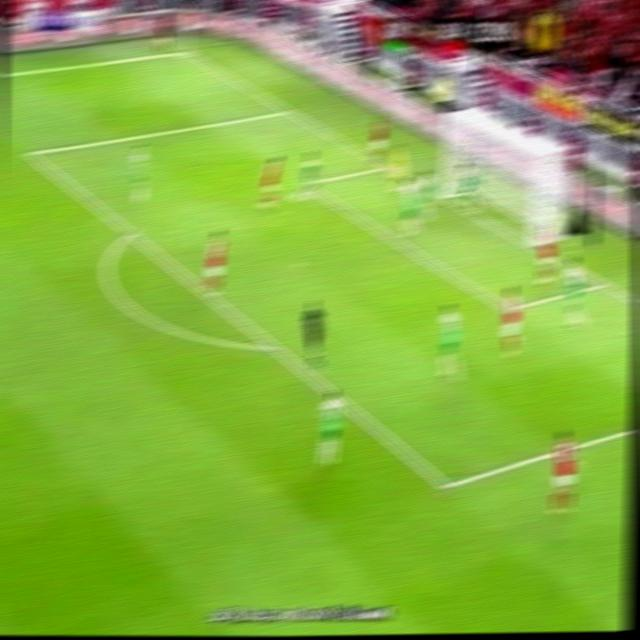bigarea_bottom_inner: (432, 470, 459, 500)
bigarea_top_inner: (22, 145, 39, 161)
bigarea_top_outter: (280, 102, 297, 117)
bottom_arc_area_intersection: (264, 337, 282, 356)
corner: (177, 46, 194, 56)
smallarea_bottom_outter: (593, 271, 615, 294)
smallarea_top_inner: (300, 177, 315, 192)
smallarea_top_outter: (380, 161, 396, 175)
top_arc_area_intersection: (123, 224, 138, 240)
